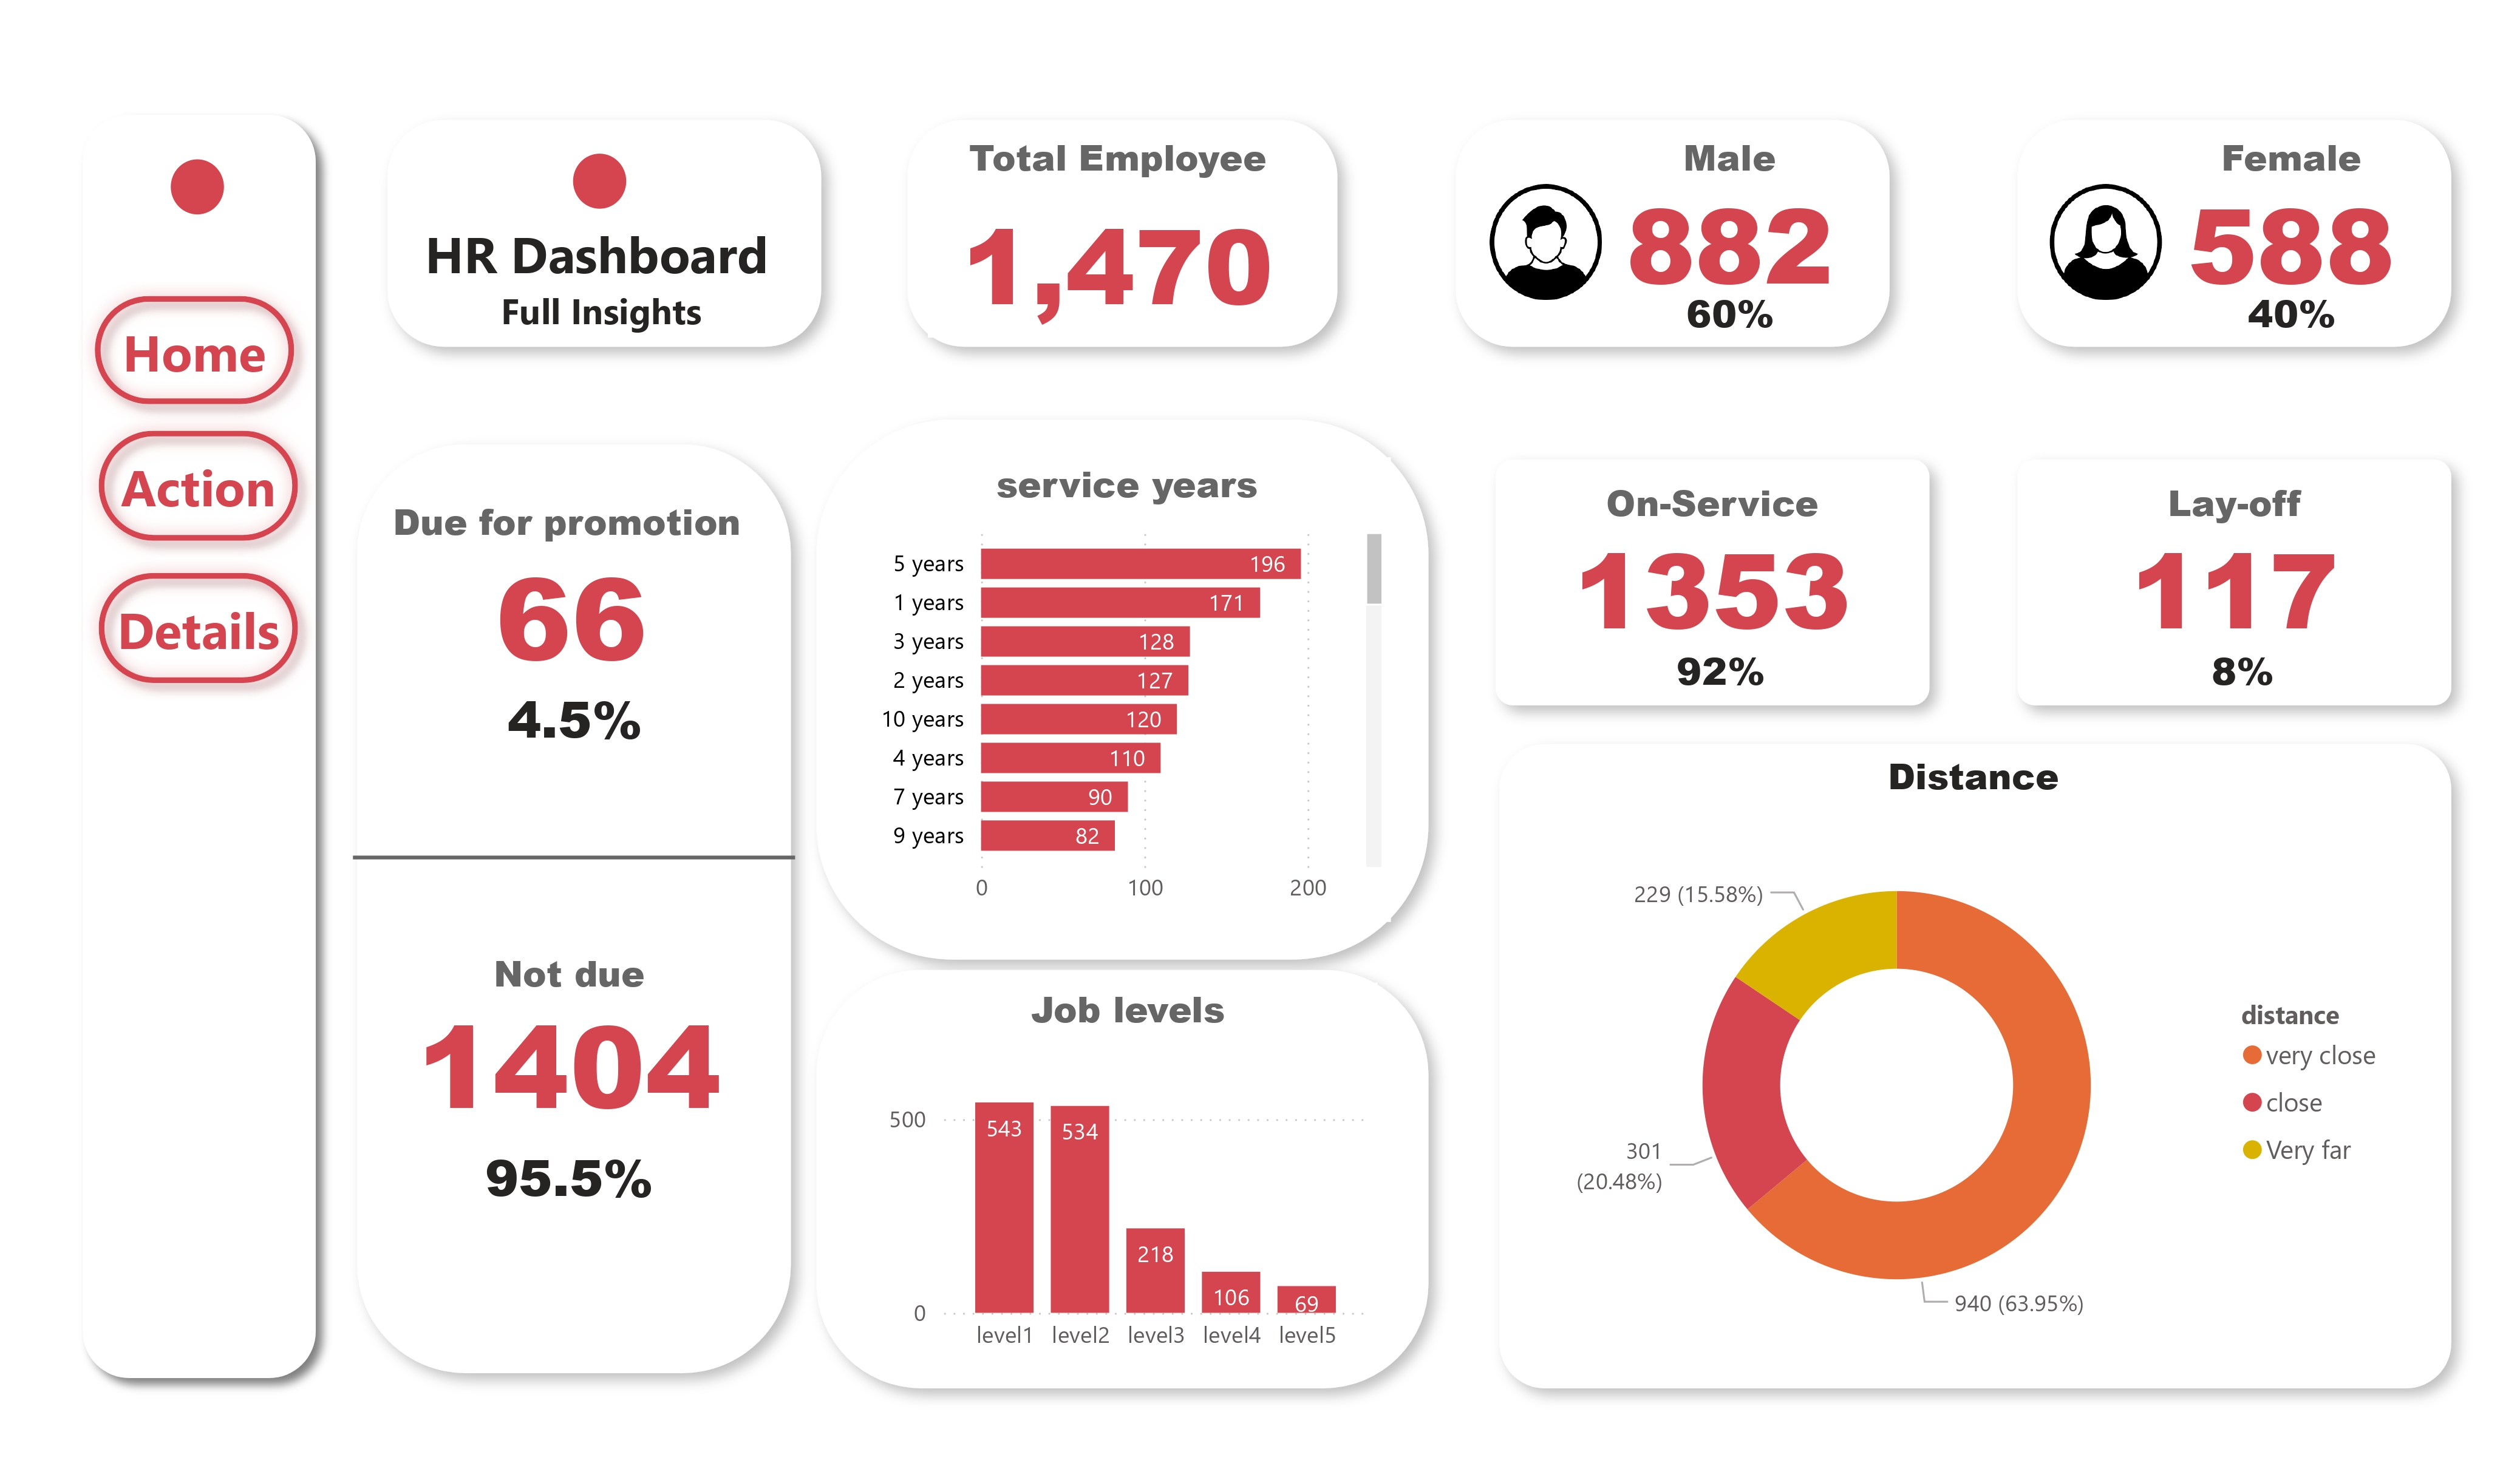

This screenshot's page, from the dashboard's own definition file:
{"tool":"powerbi","page":{"name":"Home","canvas":[1280,720],"ordinal":0},"visuals":[{"type":"shape","box":[9.7,27.2,142,684.7],"z":0},{"type":"shape","box":[1027.1,27.2,252.9,144],"z":1000},{"type":"shape","box":[731.4,27.2,252.9,144],"z":2000},{"type":"shape","box":[441.6,27.2,251.9,144],"z":3000},{"type":"shape","box":[168.3,27.2,252.9,144],"z":4000},{"type":"shape","box":[151.7,198.4,252.9,513.6],"z":5000},{"type":"shape","box":[393.9,184.8,347.2,309.3],"z":6000},{"type":"shape","box":[393.9,474.7,347.2,245.1],"z":7000},{"type":"shape","box":[751.9,206.2,252.9,153.7],"z":8000},{"type":"shape","box":[753.8,356,526.2,363.8],"z":9000},{"type":"shape","box":[1027.1,206.2,252.9,153.7],"z":10000},{"type":"textbox","box":[194.5,85.6,199.4,46.7],"z":11000},{"type":"textbox","box":[235.4,121.6,128.4,35],"z":12000},{"type":"shape","box":[278.2,57.4,28.2,28.2],"z":13000},{"type":"card","title":"Total Employee","fields":{"Values":["All new measures.Total Emp"]},"box":[464.9,44.7,200.4,108.9],"z":14000},{"type":"card","title":"Male ","fields":{"Values":["All new measures.MALE"]},"box":[820.9,44.7,133.3,87.5],"z":15000},{"type":"card","title":"Female","fields":{"Values":["All new measures.FEMALE"]},"box":[1111.7,44.7,143,87.5],"z":16000},{"type":"card","fields":{"Values":["All new measures.female %"]},"box":[1153.6,128.4,60.3,28.2],"z":17000},{"type":"card","fields":{"Values":["All new measures.male %"]},"box":[857.9,128.4,60.3,28.2],"z":18000},{"type":"image","box":[753.8,68.1,72.9,71],"z":19000},{"type":"image","box":[1049.5,68.1,72,71],"z":20000},{"type":"card","title":"Not due","fields":{"Values":["All new measures.promotion_Not_due"]},"box":[179.9,474.7,191.6,91.4],"z":21000},{"type":"card","fields":{"Values":["All new measures.%not due"]},"box":[214,570.9,123.5,52.5],"z":22000},{"type":"card","title":"Due for promotion","fields":{"Values":["All new measures.promotion_due"]},"box":[178,237.3,198.4,94.3],"z":23000},{"type":"card","fields":{"Values":["All new measures.%due"]},"box":[238.3,334.6,81.7,41.8],"z":24000},{"type":"shape","box":[162.4,278.2,232.5,299.6],"z":25000},{"type":"barChart","title":"service years","fields":{"Category":["HR Analytics Data.service year"],"Y":["All new measures.Total Emp"]},"box":[430.7,216.7,278.5,245.4],"z":26000},{"type":"columnChart","title":"Job levels","fields":{"Category":["HR Analytics Data.job levels"],"Y":["All new measures.Total Emp"]},"box":[438.7,494.1,263.6,204.3],"z":27000},{"type":"card","title":"Lay-off","fields":{"Values":["All new measures.lay off"]},"box":[1064.1,226.6,179,87.5],"z":28000},{"type":"card","title":"On-Service","fields":{"Values":["All new measures.on service"]},"box":[788.8,226.6,179,87.5],"z":29000},{"type":"card","fields":{"Values":["All new measures.%onservice"]},"box":[848.1,317.1,70,28.2],"z":30000},{"type":"card","fields":{"Values":["All new measures.%layoff"]},"box":[1123.4,317.1,70,28.2],"z":31000},{"type":"donutChart","title":"Distance","fields":{"Category":["HR Analytics Data.distance"],"Y":["CountNonNull(HR Analytics Data.distance)"]},"box":[788.8,370.6,454.2,327.8],"z":32000},{"type":"actionButton","box":[16.5,122.6,123.5,75.9],"z":32001},{"type":"shape","box":[66.1,60.3,28.2,28.2],"z":32004},{"type":"actionButton","box":[18.8,194.3,123.6,76.1],"z":32005},{"type":"actionButton","box":[18.8,268.7,123.6,76.1],"z":32006}]}

Visuals, with their boxes on the page's 1280x720 design canvas (x1, y1, x2, y2). These are canvas units, not pixel positions in the 2520x1457 screenshot, which may show the page scaled, cropped or inside an application window:
shape: [10, 27, 152, 712]
shape: [1027, 27, 1280, 171]
shape: [731, 27, 984, 171]
shape: [442, 27, 694, 171]
shape: [168, 27, 421, 171]
shape: [152, 198, 405, 712]
shape: [394, 185, 741, 494]
shape: [394, 475, 741, 720]
shape: [752, 206, 1005, 360]
shape: [754, 356, 1280, 720]
shape: [1027, 206, 1280, 360]
textbox: [194, 86, 394, 132]
textbox: [235, 122, 364, 157]
shape: [278, 57, 306, 86]
"Total Employee" card: [465, 45, 665, 154]
"Male " card: [821, 45, 954, 132]
"Female" card: [1112, 45, 1255, 132]
card - All new measures.female %: [1154, 128, 1214, 157]
card - All new measures.male %: [858, 128, 918, 157]
image: [754, 68, 827, 139]
image: [1050, 68, 1122, 139]
"Not due" card: [180, 475, 372, 566]
card - All new measures.%not due: [214, 571, 338, 623]
"Due for promotion" card: [178, 237, 376, 332]
card - All new measures.%due: [238, 335, 320, 376]
shape: [162, 278, 395, 578]
"service years" barChart: [431, 217, 709, 462]
"Job levels" columnChart: [439, 494, 702, 698]
"Lay-off" card: [1064, 227, 1243, 314]
"On-Service" card: [789, 227, 968, 314]
card - All new measures.%onservice: [848, 317, 918, 345]
card - All new measures.%layoff: [1123, 317, 1193, 345]
"Distance" donutChart: [789, 371, 1243, 698]
actionButton: [16, 123, 140, 198]
shape: [66, 60, 94, 88]
actionButton: [19, 194, 142, 270]
actionButton: [19, 269, 142, 345]
